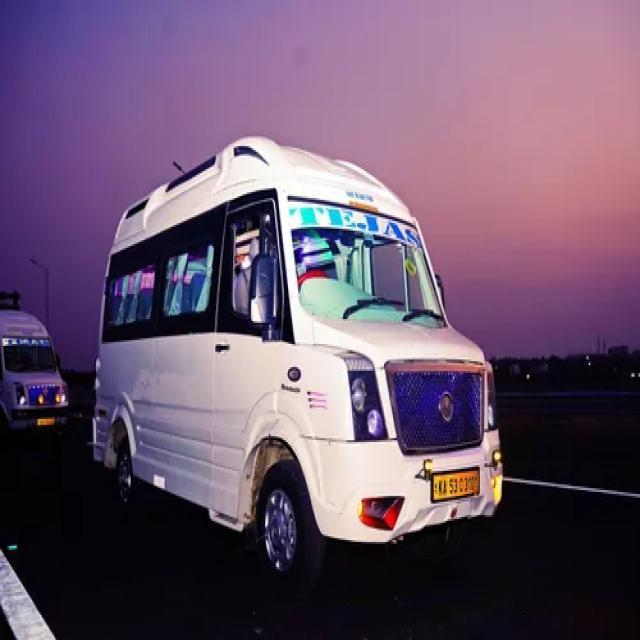Ambulance: (87, 132, 507, 596), (0, 388, 639, 638), (0, 286, 72, 446)
